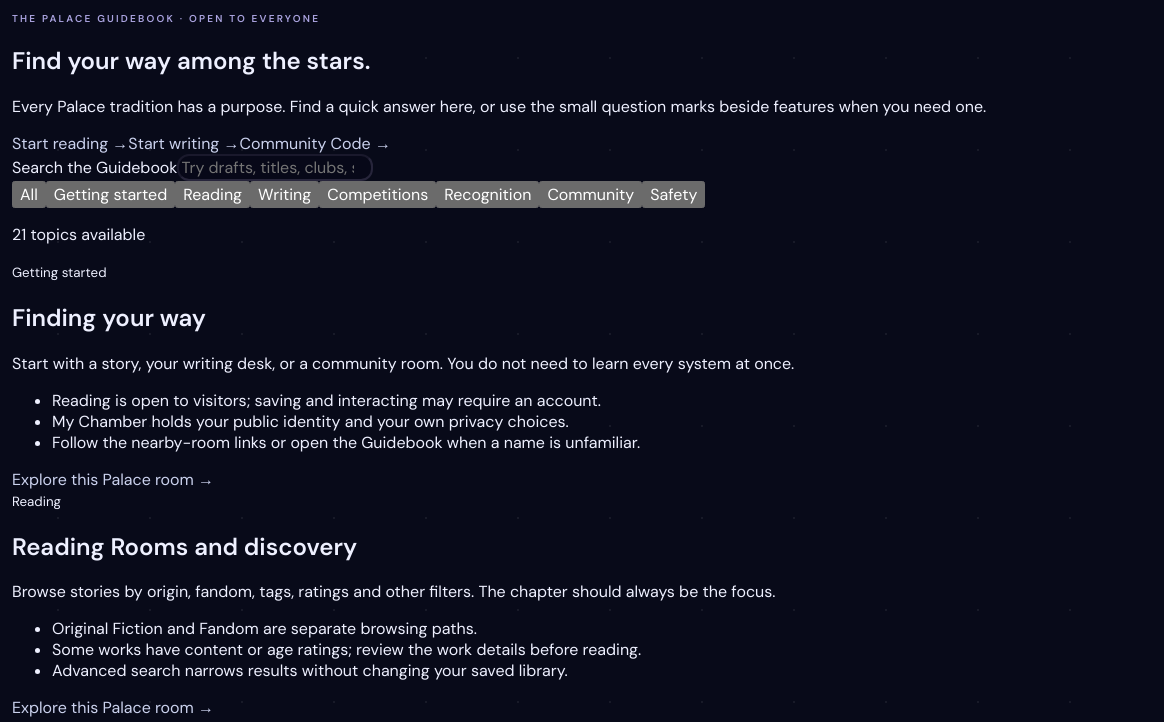
Test: Palace Guidebook and contextual guidance › searches help topics and exposes their matching room links
Expected: the heading "Find your way among the stars." is shown, [12, 45, 370, 76]
In the search field labelled "Search the Guidebook": (275, 167) [177, 154, 373, 181], type "duplicate"
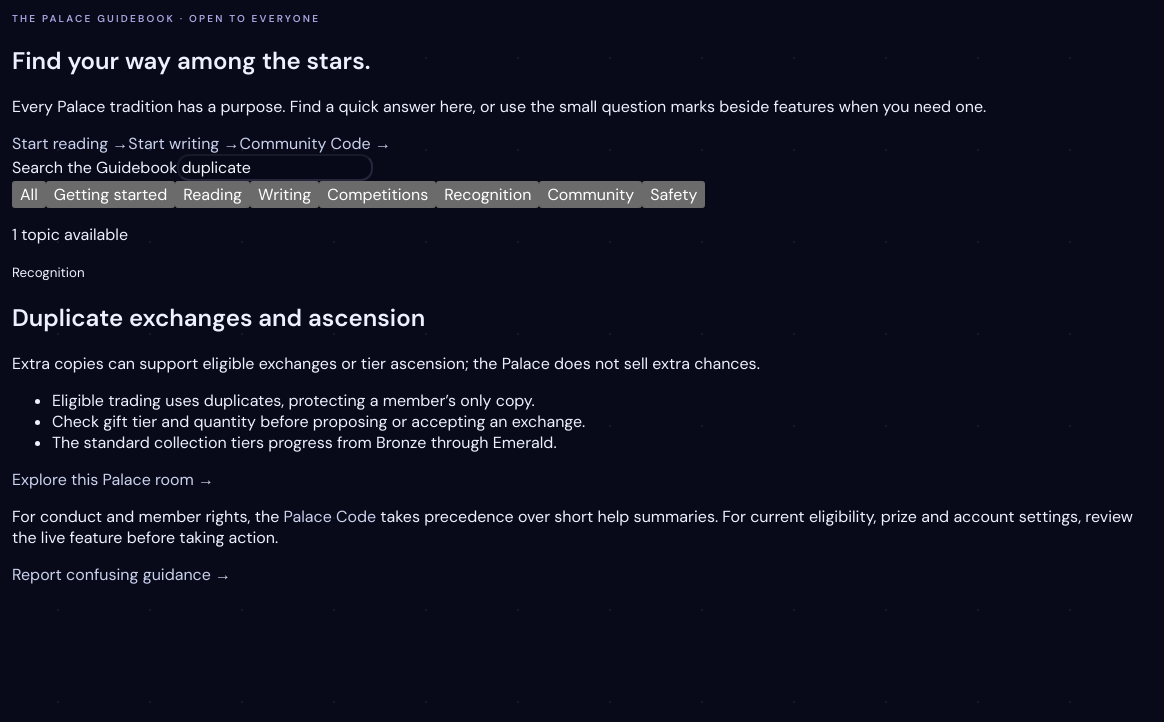
Expected: the heading "Duplicate exchanges and ascension" is shown, [12, 302, 425, 333]
Expected: the heading "Reading Rooms and discovery" is gone
Replace the text in the search field labelled "Search the Guidebook" with "zzzzzzz": (275, 167) [177, 154, 373, 181]
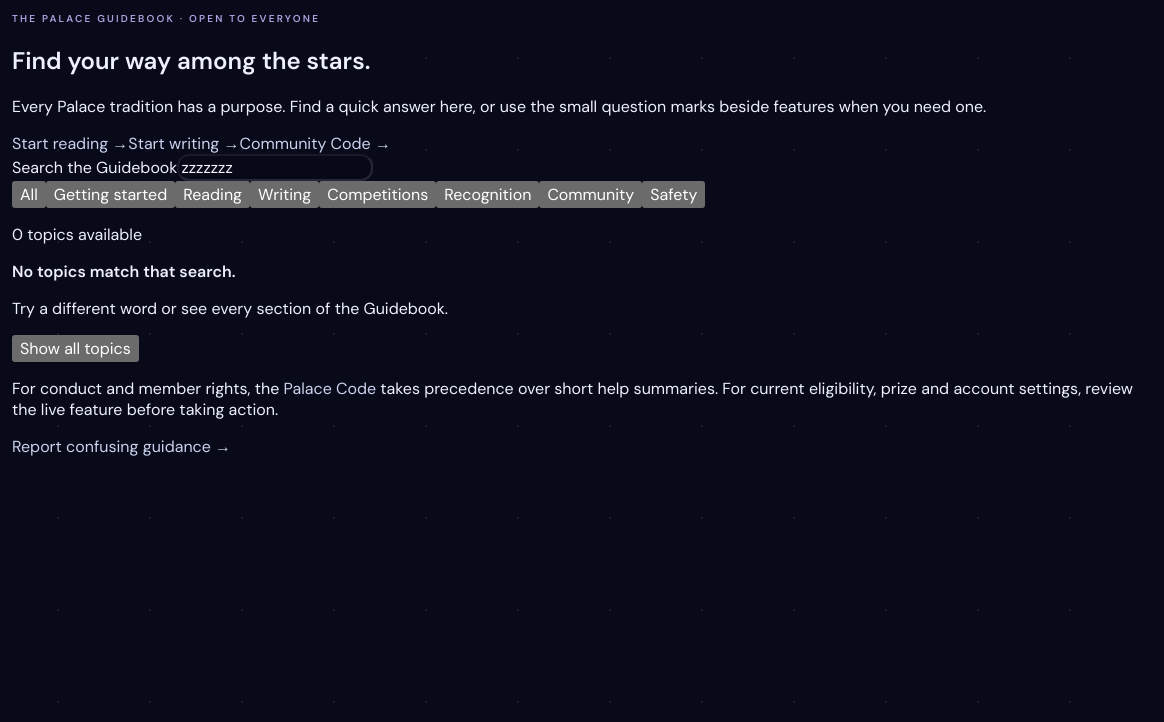
Expected: the text "No topics match that search." is shown, [12, 261, 236, 282]
Click the button "Show all topics": (75, 348) [12, 335, 139, 362]
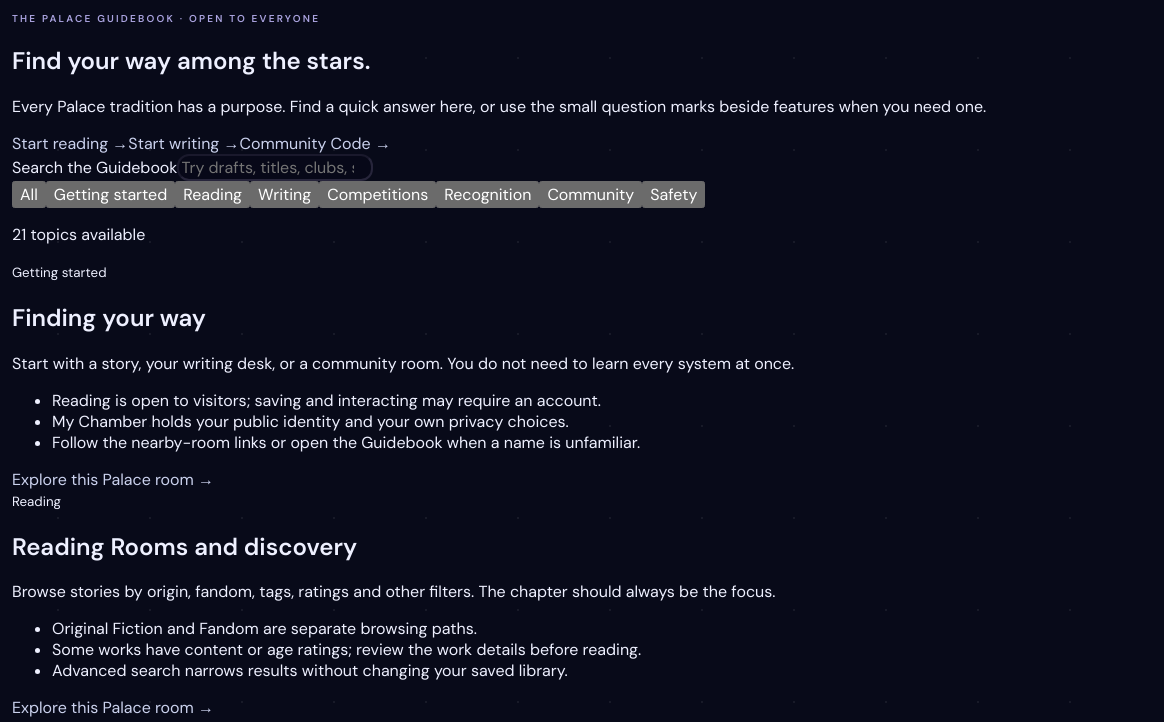
Expected: the heading "Reading Rooms and discovery" is shown, [12, 530, 357, 562]
